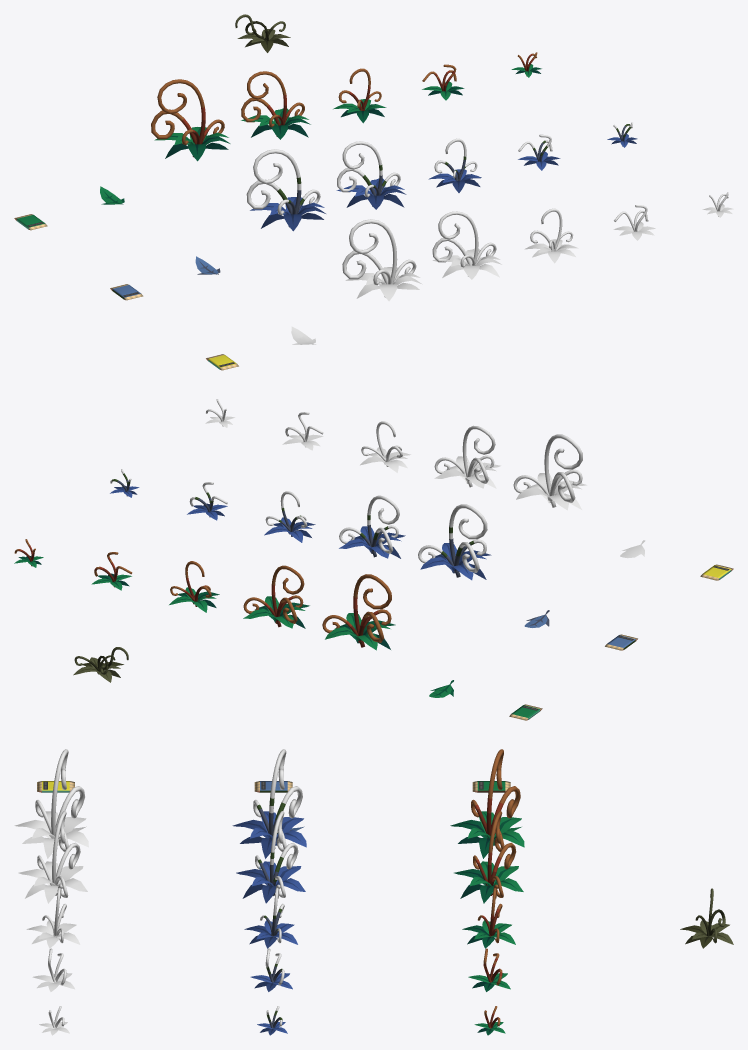
Rendered from Ambrosia Plants.fbx.
3 renders of one model, top to bottom at view 1: azimuth 30°, elevation 25°; view 2: azimuth 150°, elevation 25°; view 3: azimuth 270°, elevation 25°, orthographic. The views are drawn at different scales.
Parts seen in each view (by area): view 1: AmbrosiaVulgaris_Ready, AmbrosiaGaia_Ready, AmbrosiaDeus_Ready, AmbrosiaGaia_Stage4, AmbrosiaDeus_Stage4, AmbrosiaVulgaris_Stage4, AmbrosiaGaia_Stage3, AmbrosiaDeus_Stage3, AmbrosiaVulgaris_Stage3, Ambrosia_Dead, AmbrosiaVulgaris_Stage2, AmbrosiaDeus_Stage2 (+1 smaller); view 2: AmbrosiaGaia_Ready, AmbrosiaVulgaris_Ready, AmbrosiaDeus_Ready, AmbrosiaVulgaris_Stage4, AmbrosiaGaia_Stage4, AmbrosiaDeus_Stage4, AmbrosiaGaia_Stage3, AmbrosiaVulgaris_Stage3, AmbrosiaDeus_Stage3, Ambrosia_Dead, AmbrosiaVulgaris_Stage2, AmbrosiaGaia_Stage2 (+1 smaller); view 3: AmbrosiaDeus_Ready, AmbrosiaVulgaris_Ready, AmbrosiaGaia_Ready, AmbrosiaGaia_Stage4, AmbrosiaDeus_Stage4, AmbrosiaVulgaris_Stage4, AmbrosiaGaia_Stage3, Ambrosia_Dead, AmbrosiaDeus_Stage3, AmbrosiaVulgaris_Stage3, AmbrosiaVulgaris_Stage2, AmbrosiaDeus_Stage2 (+1 smaller).
Part boxes in pixels (left/top/right/bottom): AmbrosiaVulgaris_Ready: left=151, top=79, right=230, bottom=161; AmbrosiaGaia_Ready: left=342, top=219, right=422, bottom=301; AmbrosiaDeus_Ready: left=246, top=149, right=325, bottom=231; AmbrosiaGaia_Stage4: left=432, top=211, right=501, bottom=279; AmbrosiaDeus_Stage4: left=336, top=141, right=406, bottom=209; AmbrosiaVulgaris_Stage4: left=241, top=71, right=310, bottom=139; AmbrosiaGaia_Stage3: left=524, top=208, right=578, bottom=263; AmbrosiaDeus_Stage3: left=428, top=138, right=481, bottom=192; AmbrosiaVulgaris_Stage3: left=333, top=68, right=386, bottom=123; Ambrosia_Dead: left=235, top=14, right=290, bottom=52; AmbrosiaVulgaris_Stage2: left=422, top=64, right=464, bottom=100; AmbrosiaDeus_Stage2: left=518, top=134, right=560, bottom=170; AmbrosiaGaia_Ready: left=513, top=434, right=586, bottom=510; AmbrosiaVulgaris_Ready: left=322, top=574, right=395, bottom=650; AmbrosiaDeus_Ready: left=418, top=504, right=491, bottom=580; AmbrosiaVulgaris_Stage4: left=243, top=565, right=309, bottom=628; AmbrosiaGaia_Stage4: left=434, top=425, right=500, bottom=488; AmbrosiaDeus_Stage4: left=339, top=495, right=405, bottom=558; AmbrosiaGaia_Stage3: left=360, top=421, right=410, bottom=472; AmbrosiaVulgaris_Stage3: left=169, top=561, right=219, bottom=612; AmbrosiaDeus_Stage3: left=264, top=491, right=315, bottom=542; Ambrosia_Dead: left=73, top=647, right=128, bottom=682; AmbrosiaVulgaris_Stage2: left=91, top=552, right=132, bottom=590; AmbrosiaGaia_Stage2: left=282, top=412, right=323, bottom=450; AmbrosiaDeus_Ready: left=232, top=749, right=306, bottom=858; AmbrosiaVulgaris_Ready: left=450, top=749, right=524, bottom=858; AmbrosiaGaia_Ready: left=14, top=749, right=88, bottom=858; AmbrosiaGaia_Stage4: left=18, top=811, right=87, bottom=903; AmbrosiaDeus_Stage4: left=236, top=811, right=305, bottom=903; AmbrosiaVulgaris_Stage4: left=454, top=811, right=523, bottom=903; AmbrosiaGaia_Stage3: left=26, top=888, right=80, bottom=948; Ambrosia_Dead: left=680, top=888, right=733, bottom=948; AmbrosiaDeus_Stage3: left=244, top=888, right=297, bottom=948; AmbrosiaVulgaris_Stage3: left=462, top=888, right=515, bottom=948; AmbrosiaVulgaris_Stage2: left=468, top=948, right=510, bottom=991; AmbrosiaDeus_Stage2: left=250, top=948, right=292, bottom=991.
Bounding box in the file's own units: 6.26 × 1.2 × 6.61.
